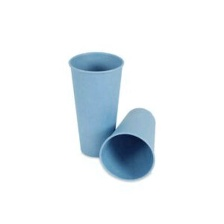paper_cup: (61, 47, 127, 162), (92, 101, 163, 185)
